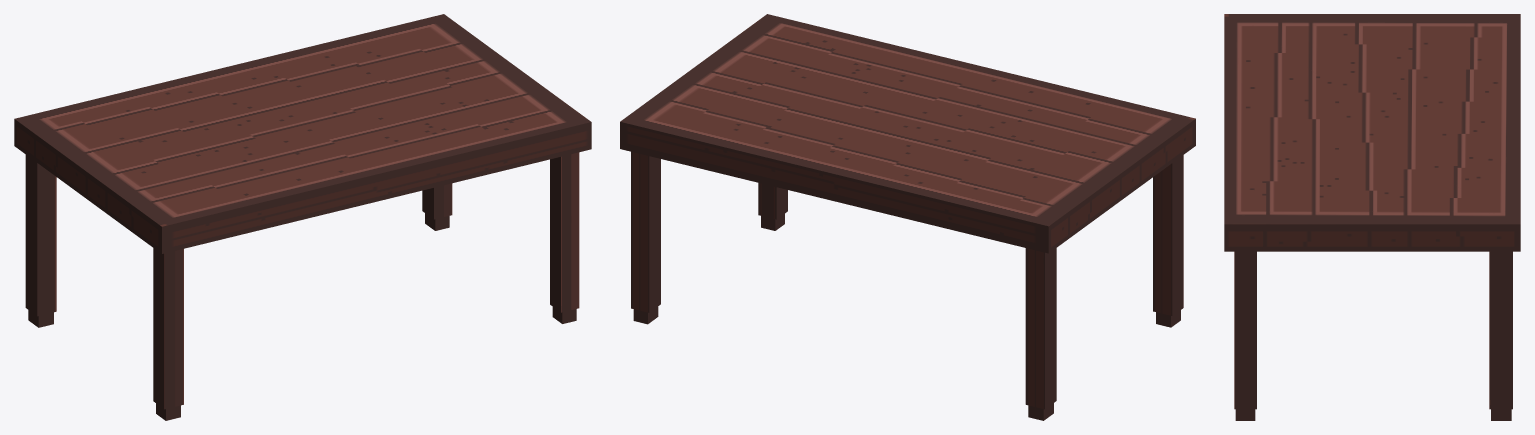
The model's file is table.fbx.
3 views of the same model, side by side, from view 1: azimuth 30°, elevation 25°; view 2: azimuth 150°, elevation 25°; view 3: azimuth 270°, elevation 25° (orthographic).
Visible parts, largest first — view 1: Table; view 2: Table; view 3: Table.
Part boxes in pixels (<box>): Table: <box>14,14,591,420</box>; Table: <box>620,14,1195,420</box>; Table: <box>1224,14,1520,420</box>.
Bounding box in the file's own units: 1867 × 833 × 1111.
1 material, 1 textured.
